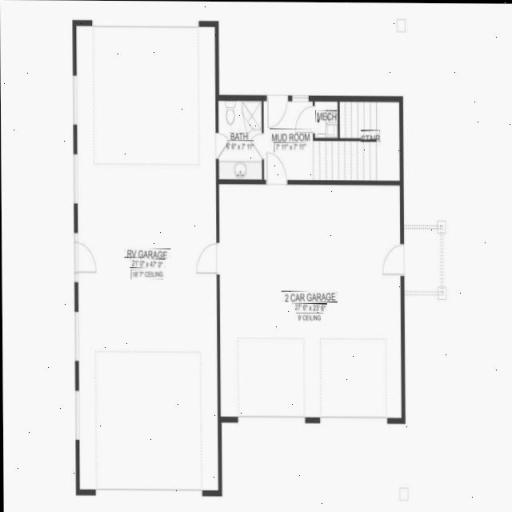Room: (282, 111, 401, 188)
bathroom: (218, 105, 268, 179)
garage: (77, 26, 222, 472), (220, 182, 412, 422)
